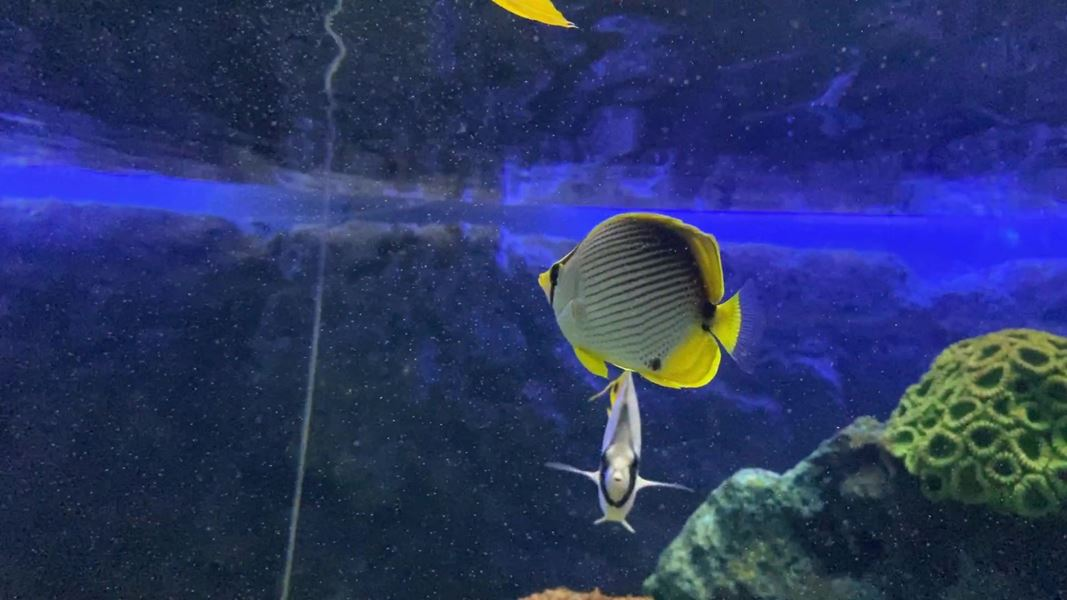Black-backed butterflyfish: (528, 202, 781, 402)
